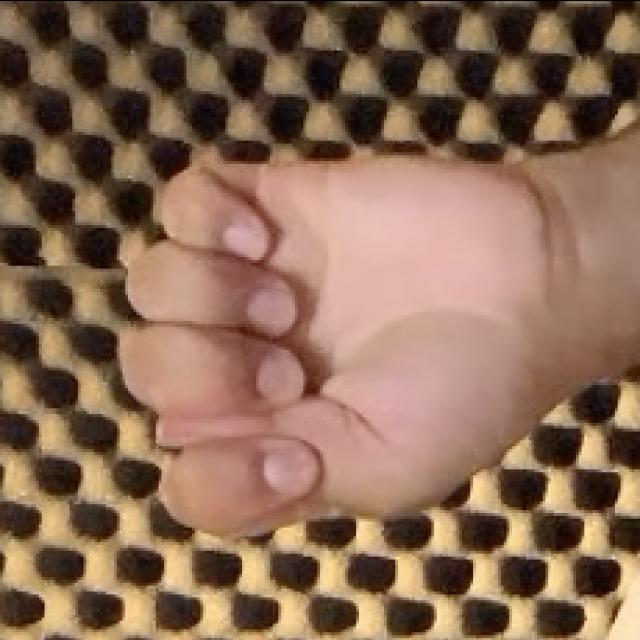T: (109, 142, 575, 542)
